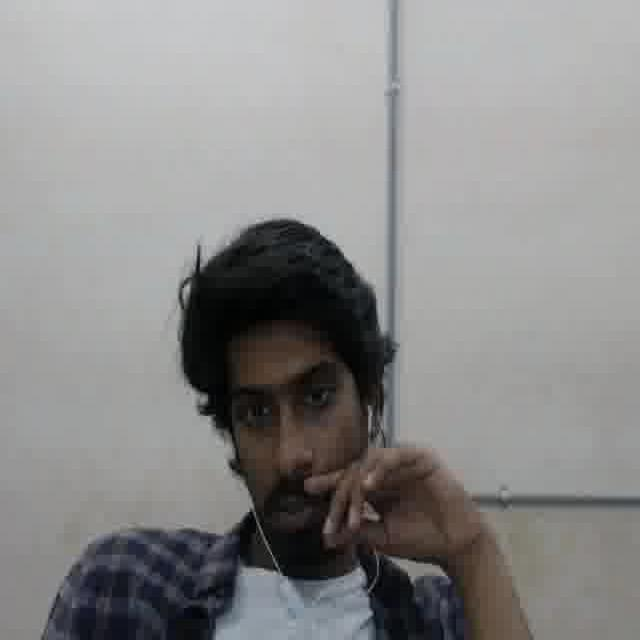Frustration: (225, 325, 360, 543)
